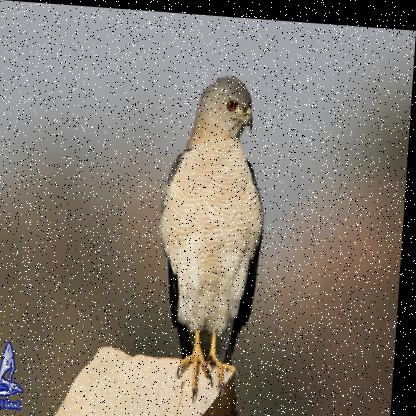Burung: (156, 69, 274, 403)
